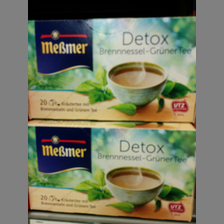tea: (29, 16, 195, 122), (28, 121, 196, 224)
